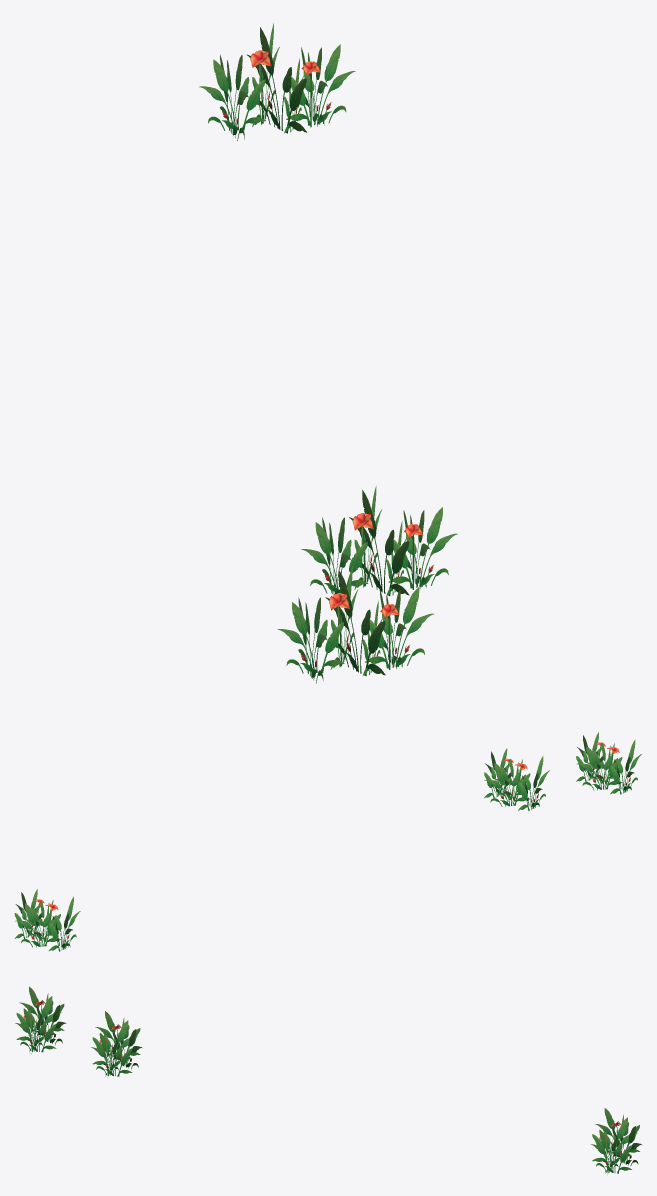
Rendered from area_03_14.fbx.
The picture shows the model from 3 angles, top to bottom: view 1: azimuth 30°, elevation 25°; view 2: azimuth 150°, elevation 25°; view 3: azimuth 270°, elevation 25°; orthographic projection. The views are drawn at different scales.
Visible parts, largest first — view 1: area_03_14; view 2: area_03_14; view 3: area_03_14.
Boxes of the visible parts, x1=… form: area_03_14: x1=199, y1=23, x2=457, y2=683; area_03_14: x1=14, y1=732, x2=641, y2=951; area_03_14: x1=15, y1=986, x2=642, y2=1174.
Size of the model in its own units: 10.91 by 1.55 by 18.78.
